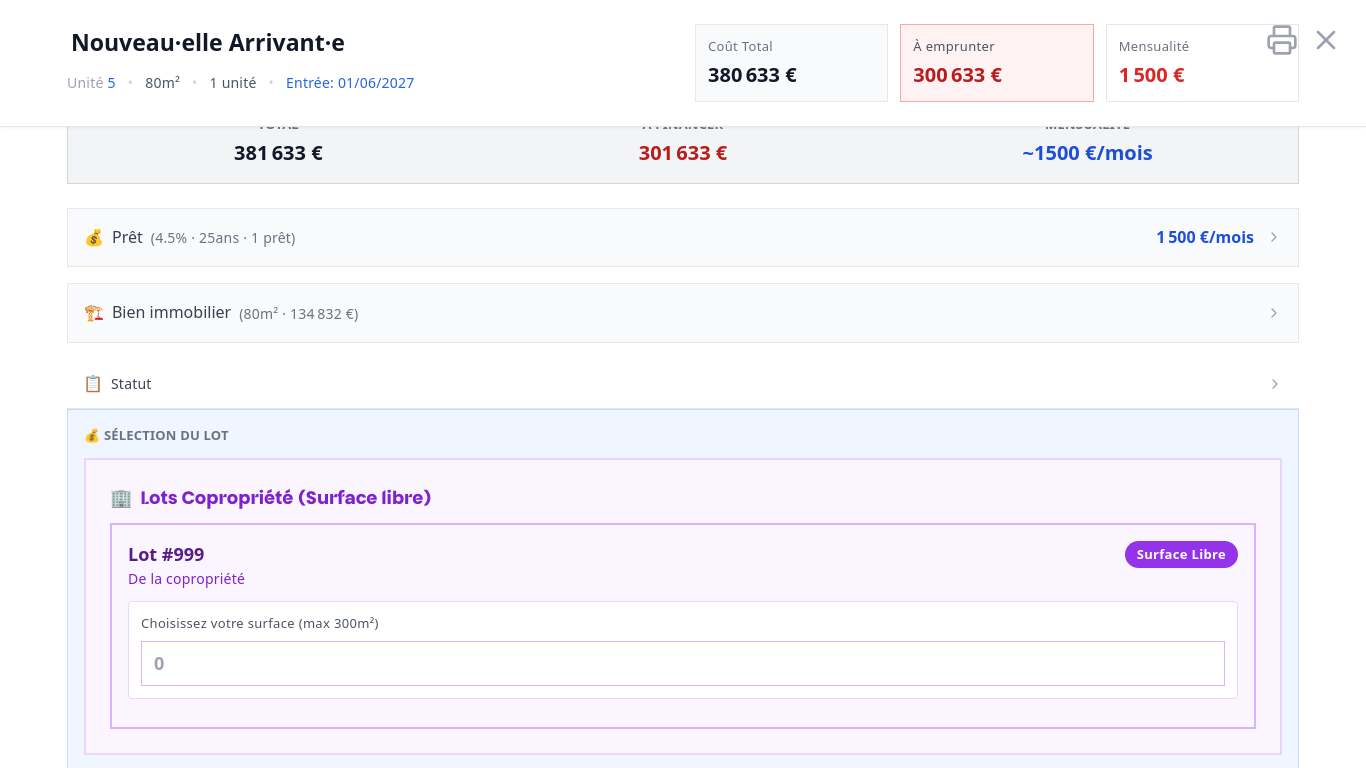
Test: ParticipantDetailModal - Reactive Portage Price Recalculation › should recalculate purchase price when entry date changes
(page scrolled)
Click the button "📋 Statut".
click(131, 384)  # box [67,359,1299,408]
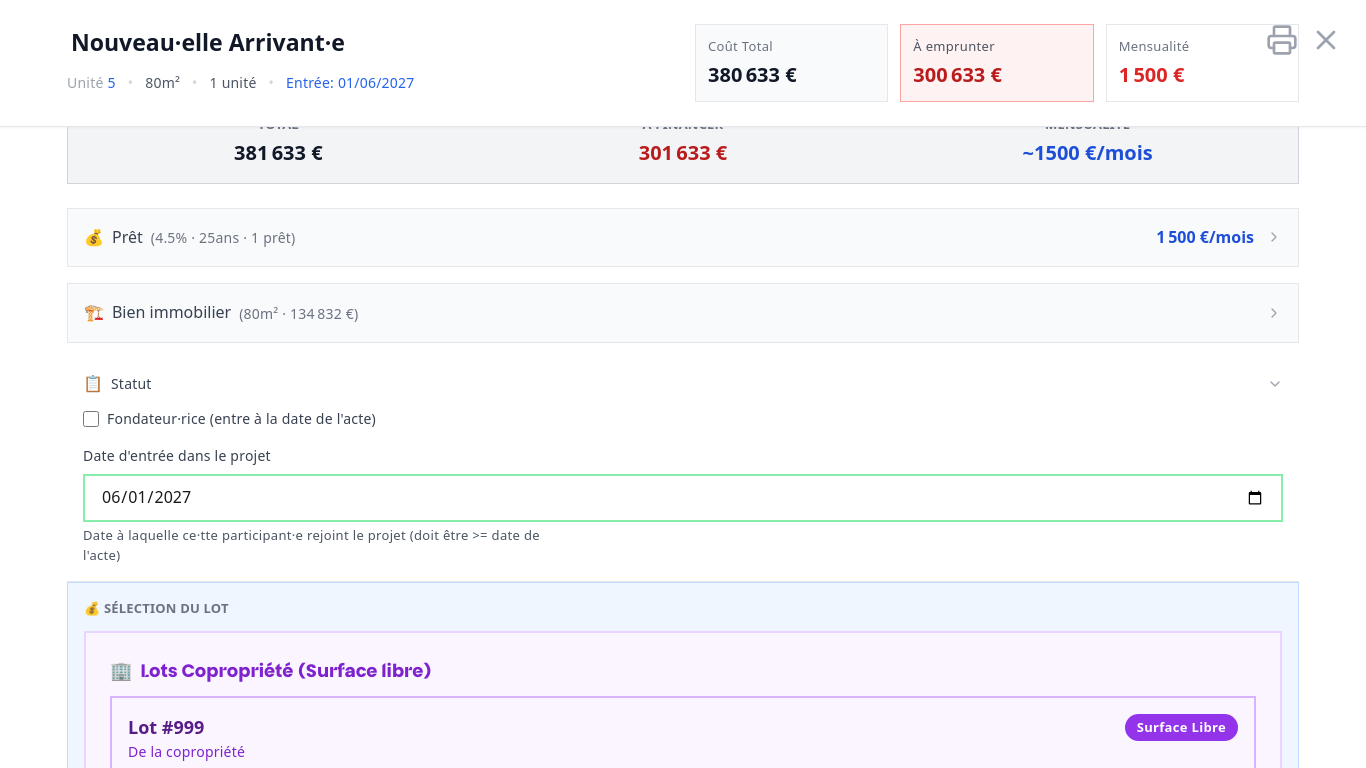
Now the date field showing "2027-06-01" is shown
Change entry date to 24 months later (2028-02-01)
Type "2028-02-01" into the date field showing "2027-06-01".
click(683, 498); type("2028-02-01")  # box [83,474,1283,522]
(page scrolled)
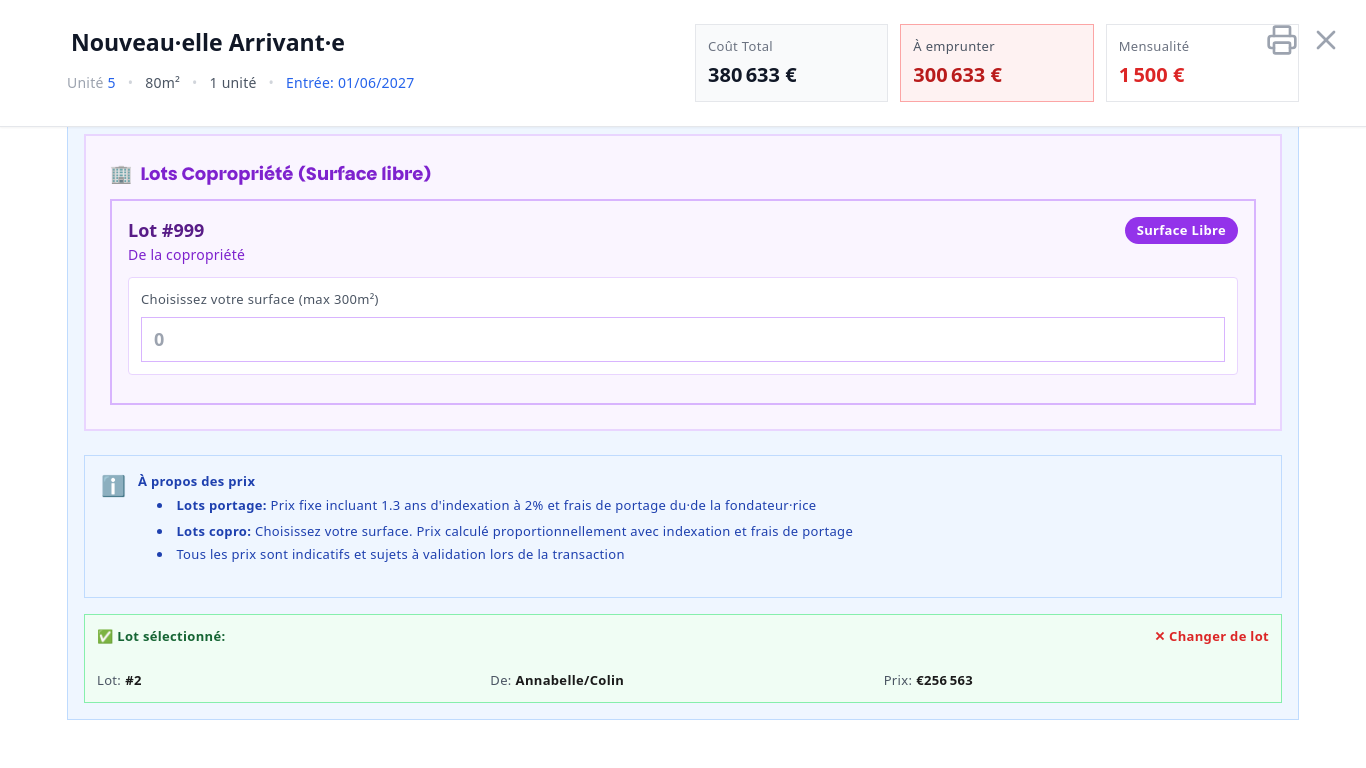
Now the text "Annabelle/Colin" is shown, box [516,670,624,688]
